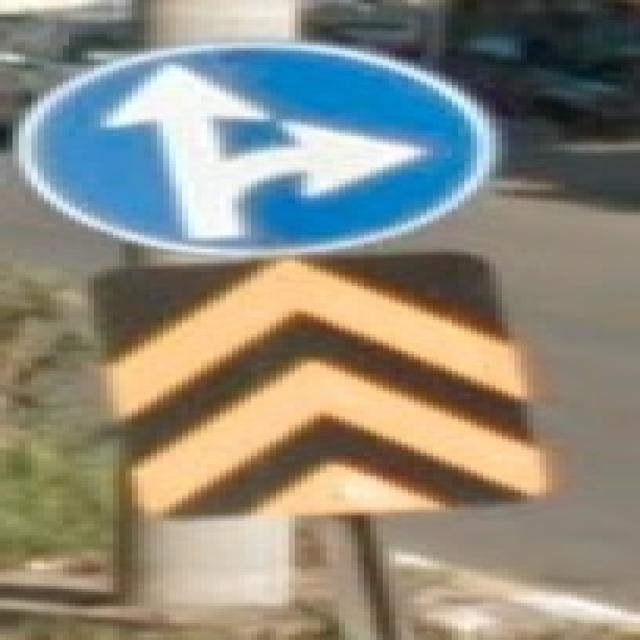Straight or Right: (17, 44, 481, 248)
